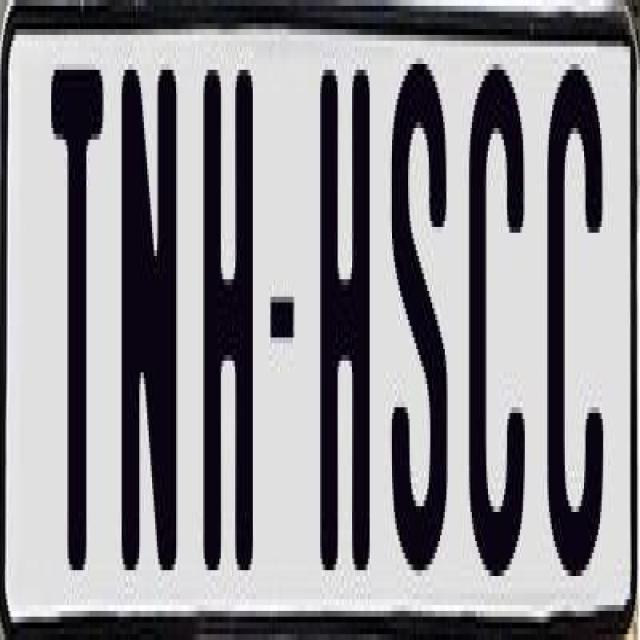C: (547, 58, 613, 599), (467, 64, 523, 611)
H: (203, 63, 261, 600), (316, 70, 366, 588)
N: (120, 70, 174, 600)
S: (387, 64, 450, 605)
T: (50, 70, 104, 606)
